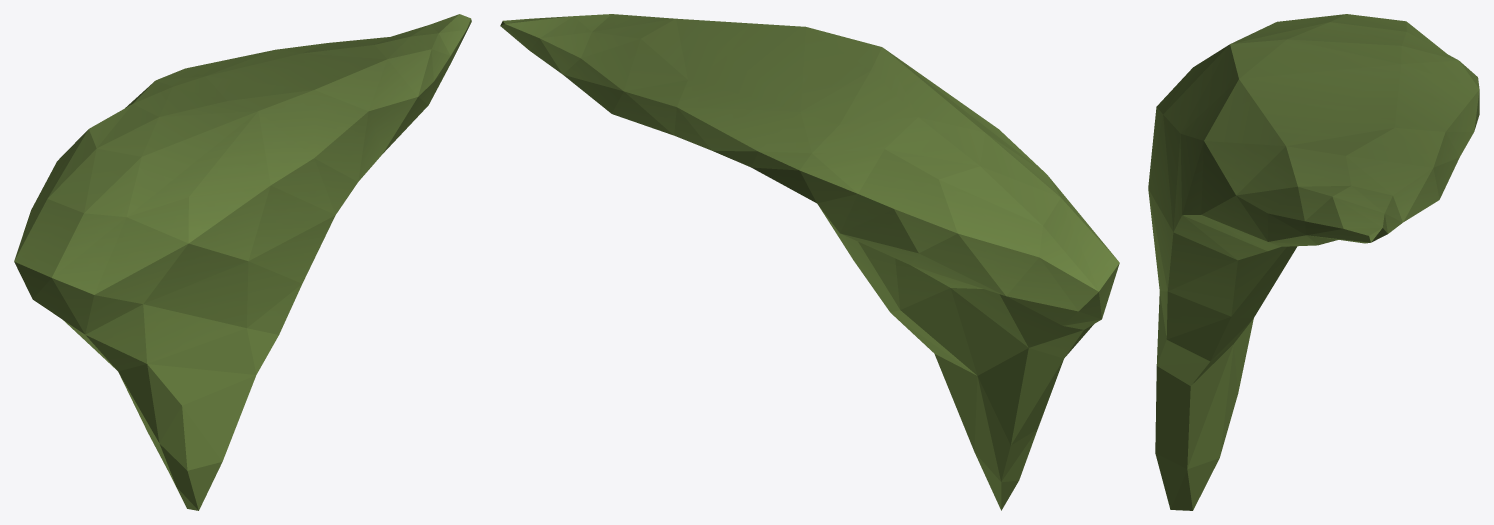
The model's file is Jungle_BushTopper_E.fbx.
3 renders of one model, left to right at view 1: azimuth 30°, elevation 25°; view 2: azimuth 150°, elevation 25°; view 3: azimuth 270°, elevation 25°, orthographic. The views are drawn at different scales.
Visible parts, largest first — view 1: Jungle_BushTopper_E; view 2: Jungle_BushTopper_E; view 3: Jungle_BushTopper_E.
Part boxes in pixels (box(x1,y1,x2,y2)): Jungle_BushTopper_E: box(14, 14, 471, 510); Jungle_BushTopper_E: box(500, 14, 1119, 510); Jungle_BushTopper_E: box(1148, 14, 1479, 510).
Size of the model in its own units: 6.52 by 4.9 by 2.77.
Materials: 1 (1 with a texture image).
